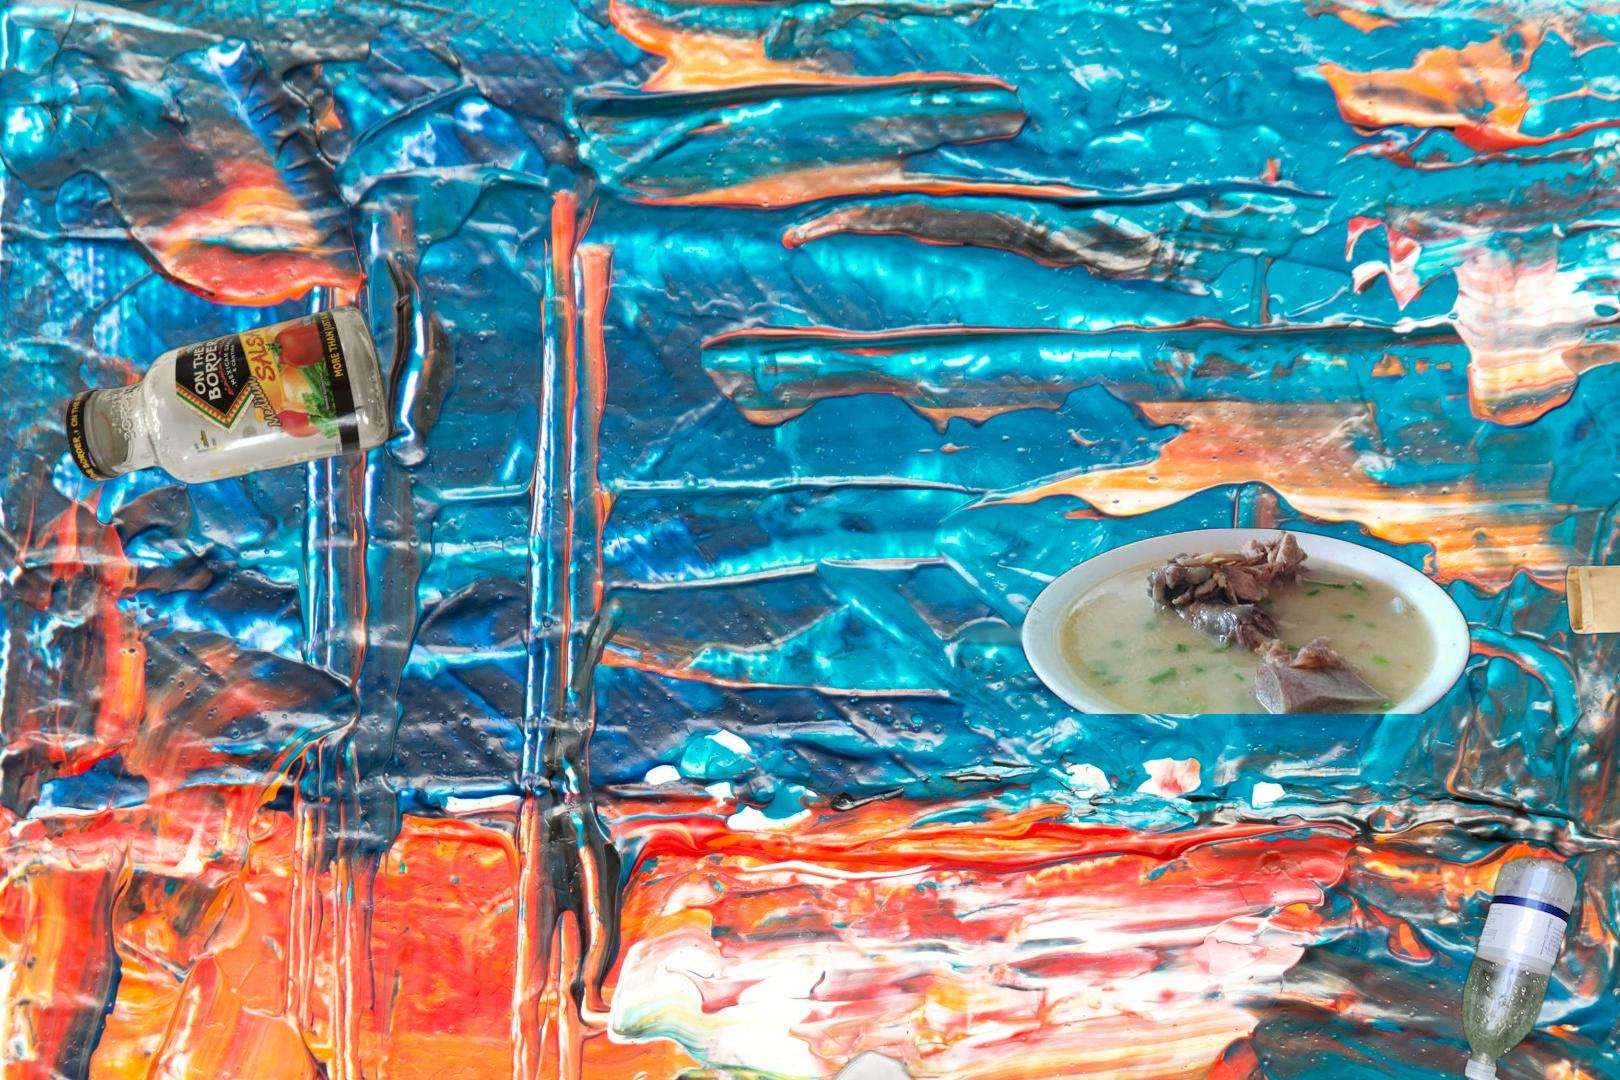biological: (943, 294, 1552, 714)
glass: (61, 303, 395, 487)
paper-bag: (1548, 480, 1620, 694)
plastic-bottles: (1457, 850, 1581, 1080)
trash: (742, 1025, 950, 1080)
